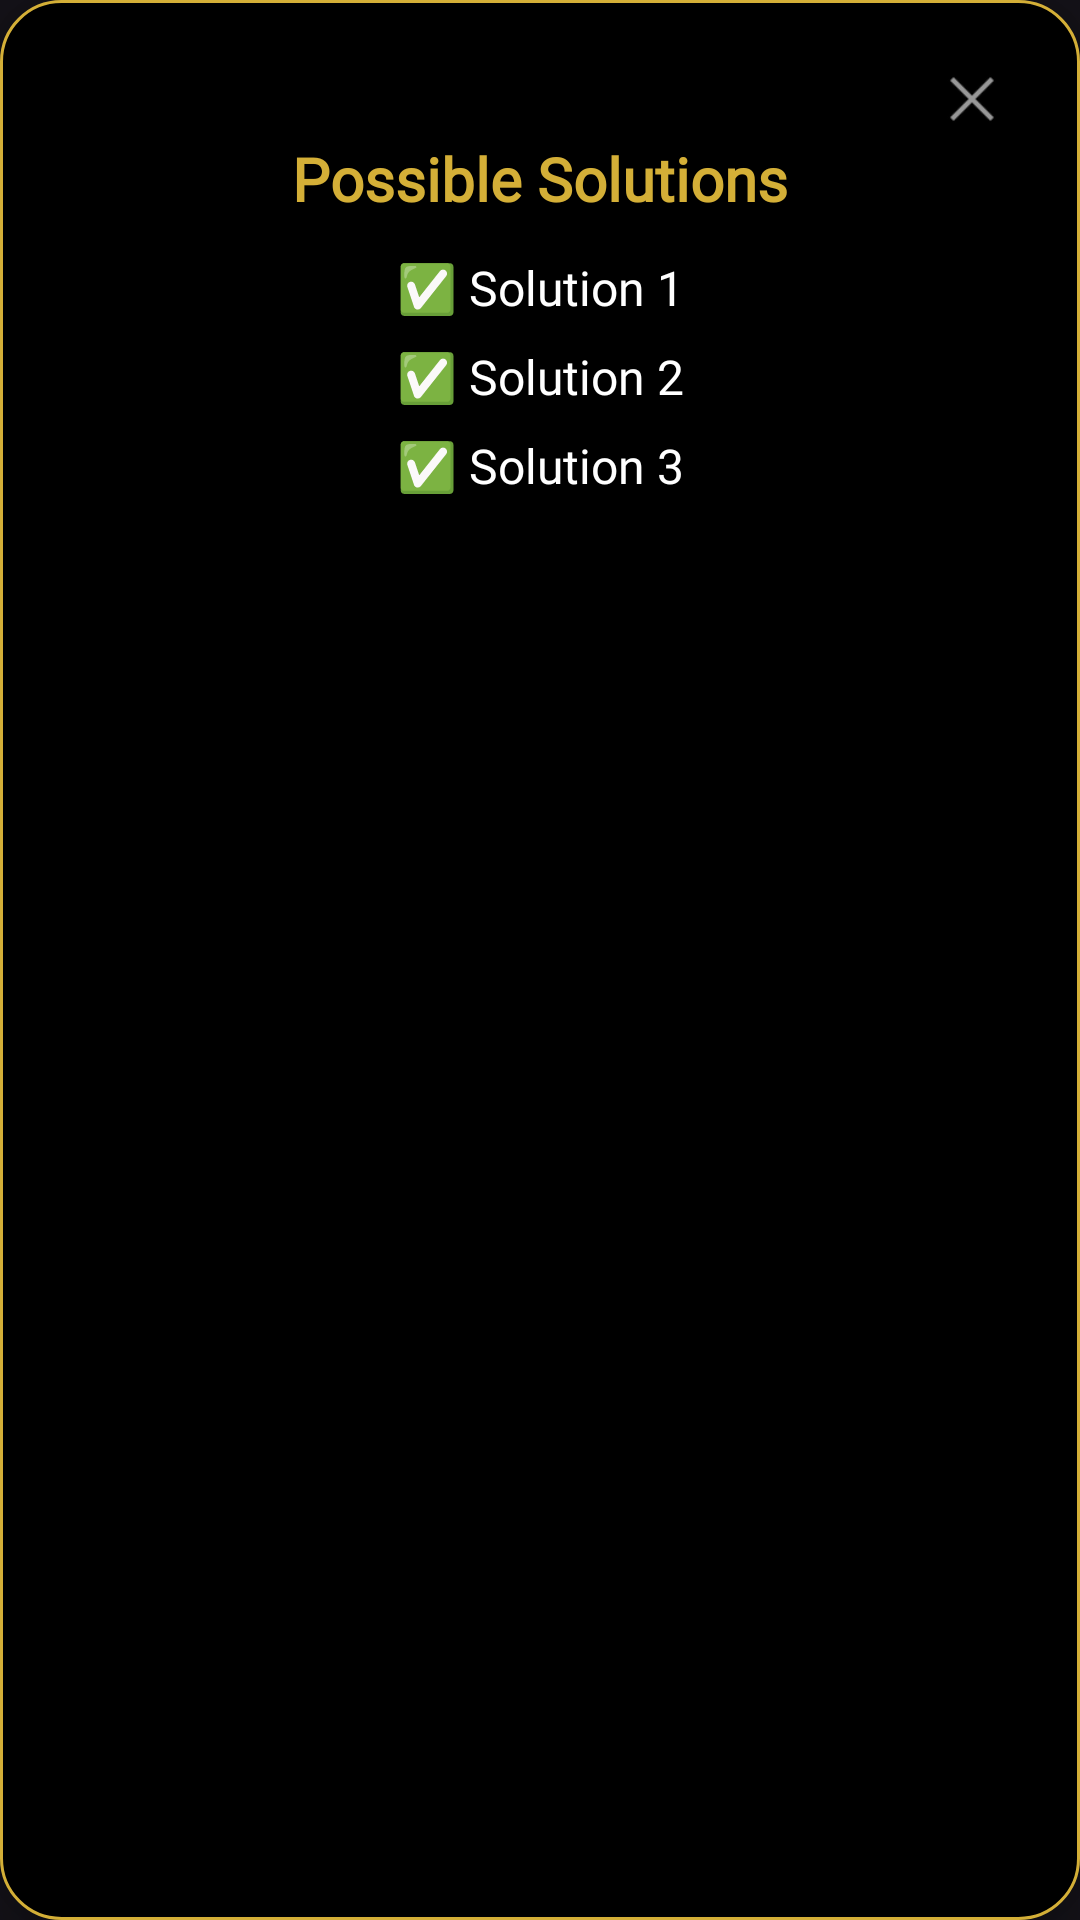

Where to tap for icons on this 1080px x 1920px app screen, as [x,y]:
Close: [972,99]
